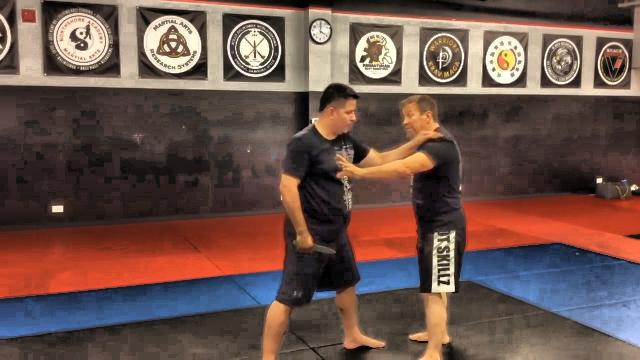knife: (292, 237, 338, 255)
